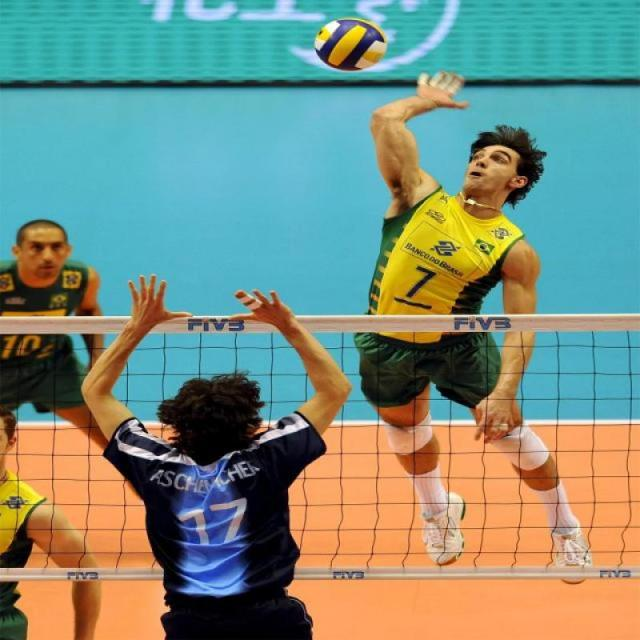volleyball: (308, 15, 392, 74)
